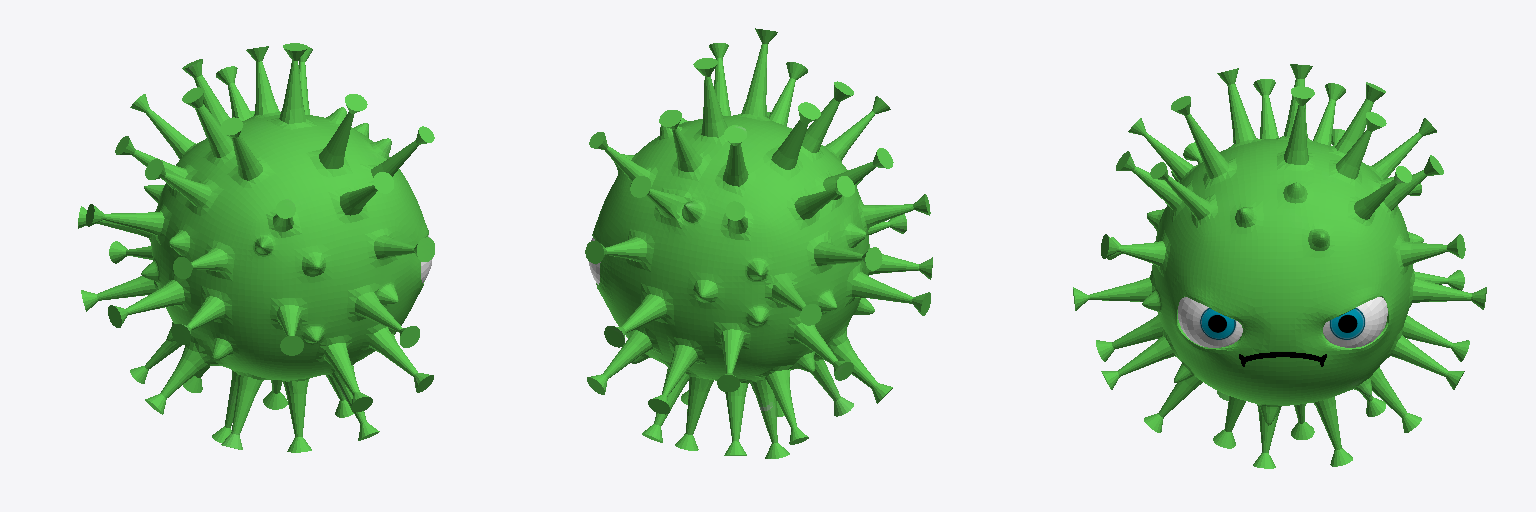
3 renders of one model, left to right at view 1: azimuth 30°, elevation 25°; view 2: azimuth 150°, elevation 25°; view 3: azimuth 270°, elevation 25°, orthographic.
Visible parts, largest first — view 1: Cube_Cube.001; view 2: Cube_Cube.001; view 3: Cube_Cube.001, Cube.001_Cube.002.
Part boxes in pixels (x1,y1,x2,y2): Cube_Cube.001: (78, 43, 434, 452); Cube_Cube.001: (585, 28, 932, 458); Cube_Cube.001: (1073, 64, 1486, 468); Cube.001_Cube.002: (1178, 297, 1387, 366).
Size of the model in its own units: 2.26 by 2.71 by 2.68.
2 materials, 2 textured.